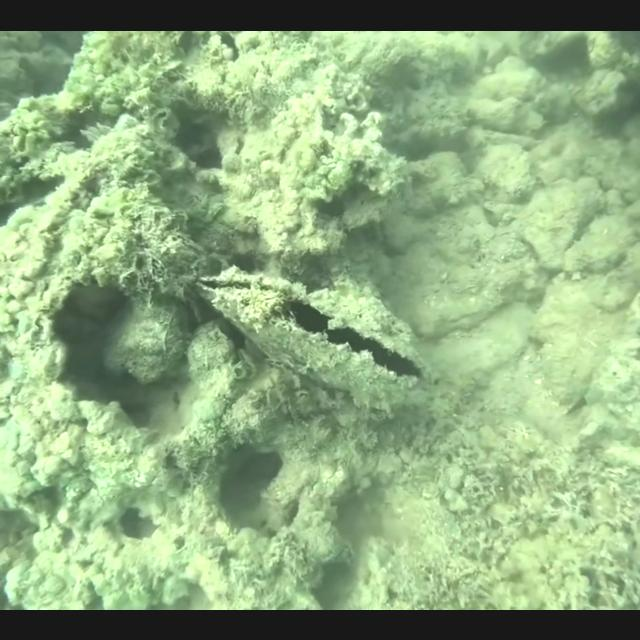Oyster-Open: (199, 264, 431, 412)
